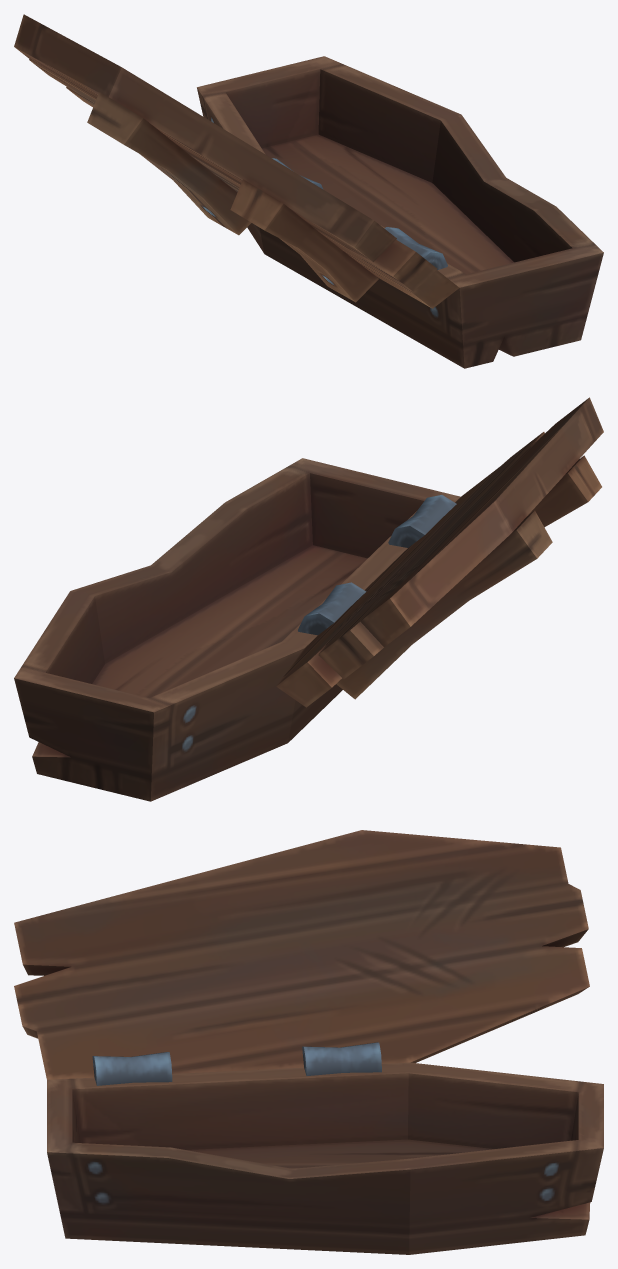
File: coffin_open.fbx
3 views of the same model, one above another, from view 1: azimuth 30°, elevation 25°; view 2: azimuth 150°, elevation 25°; view 3: azimuth 270°, elevation 25° (orthographic). The views are drawn at different scales.
Visible parts, largest first — view 1: coffin_open; view 2: coffin_open; view 3: coffin_open.
Boxes of the visible parts, box(x1,y1,x2,y2) form: coffin_open: box(14, 14, 603, 368); coffin_open: box(14, 397, 603, 801); coffin_open: box(14, 830, 603, 1254).
Size of the model in its own units: 187 by 109 by 233.
